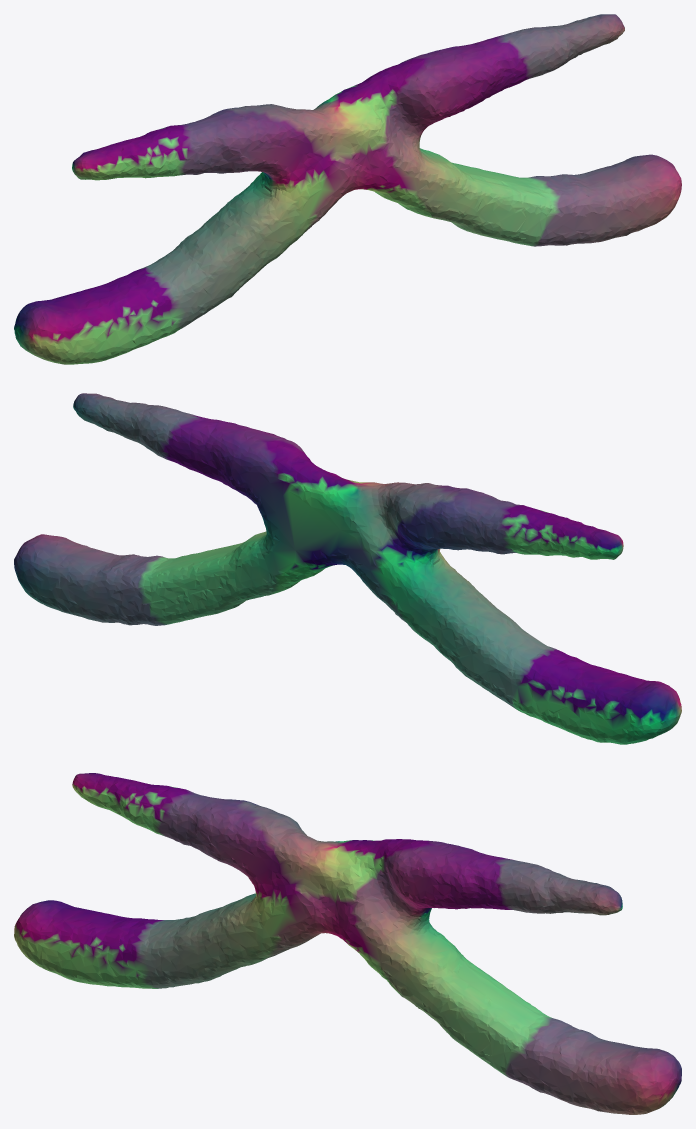
Rendered from pliers-19.off.obj.
3 renders of one model, top to bottom at view 1: azimuth 30°, elevation 25°; view 2: azimuth 150°, elevation 25°; view 3: azimuth 330°, elevation 25°, orthographic.
Size of the model in its own units: 1.78 by 0.5736 by 0.1737.
